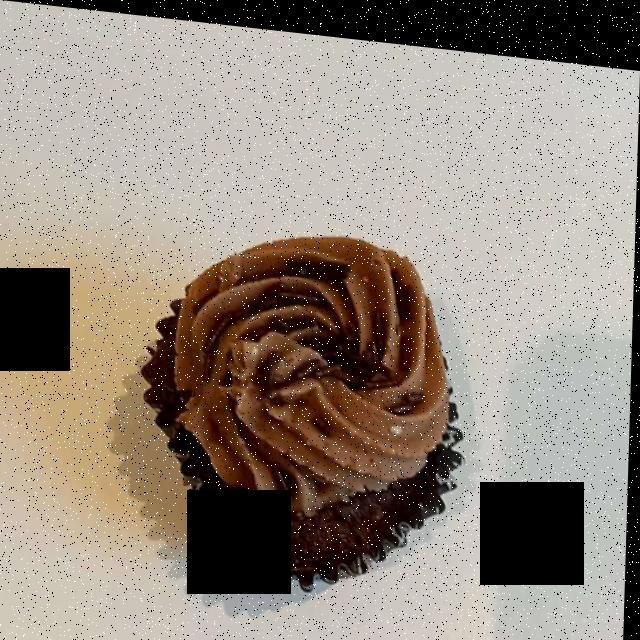chocolate: (300, 330, 376, 395)
muffin: (151, 227, 454, 574)
